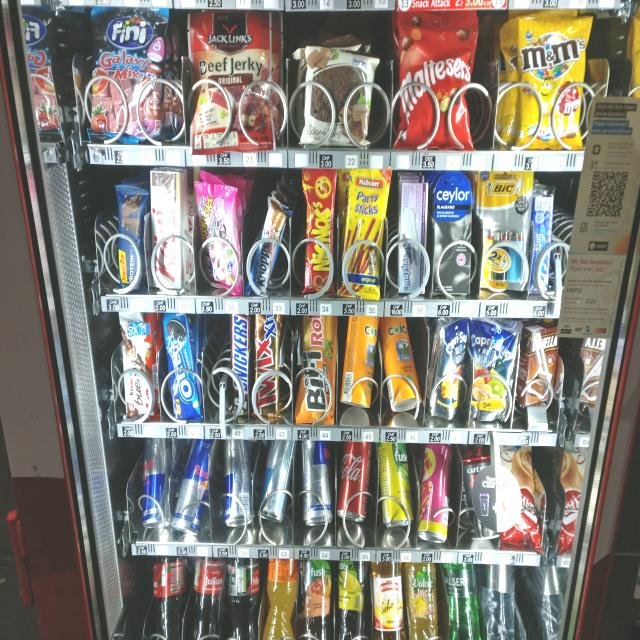7days_croissantschoko_packung_80_1_0000000000003: (499, 443, 545, 550)
bifi_roll__50__4251097402635: (294, 314, 338, 426)
bueno___43__4008400320328: (117, 311, 157, 418)
c-swiss_dosenabisicetea__33__9120025930135: (378, 314, 424, 415), (340, 314, 379, 408)
caferoyal_classicmacchiato__33__7617014164487: (462, 448, 499, 545)
caprisun_multivitamin__20__4000177605004: (472, 317, 514, 423), (430, 315, 466, 420)
coke__dose_33__54491472: (337, 437, 374, 525)
coke__flasche_50__54491472: (186, 554, 228, 637), (226, 552, 263, 637), (148, 554, 186, 634)
comella_schokodrink__33__7613100037253: (523, 322, 561, 411)
fanta___50__40822938: (265, 556, 301, 640)
fini_galaxymix_packung_100_1_8410525150364: (89, 4, 166, 141)
fini_jellykisses_packung_80_1_8410525116704: (195, 176, 242, 292)
fuse_lemon__50__5449000235947: (336, 556, 372, 640)
fuse_lemon_dose_33__5449000235947: (380, 437, 416, 530)
fuse_peach__50__5449000236623: (298, 556, 336, 638)
jacklinks_beefjerkyorginal__25__4047751730219: (186, 8, 278, 156)
kagi___50__7610046000259: (148, 170, 184, 296)
knoppers_riegel____4035800488808: (244, 191, 289, 296)
lorenz_nicnacs__40__4018077798818: (301, 166, 339, 300)
malburner_partysticks__40__7610200279682: (340, 164, 386, 300)
maltesers___100__5000159023061: (394, 9, 479, 150)
mnms_gelb__45__40111445: (514, 17, 592, 151)
oreo___66__84100733: (164, 312, 206, 418)
powerbar_proteinplusschoko__55__4029679520028: (113, 182, 148, 291)
ramseier_schorle__50__7610057012456: (372, 559, 408, 636)
redbull___33__90162909: (176, 436, 213, 533), (298, 438, 335, 530), (218, 435, 254, 529), (138, 437, 172, 531), (257, 442, 296, 522)
snickers___50__5000159461122: (227, 311, 252, 421)
tiki_himbeer_brause__50__00000000009342: (416, 440, 457, 544)
twix___50__5000159459228: (252, 313, 281, 425)
valser_classic__50__76404160: (440, 561, 480, 640)
valser_still__50__7610335002575: (482, 562, 518, 640)
volvic_pinapple__50__305764335648: (403, 558, 441, 640)
